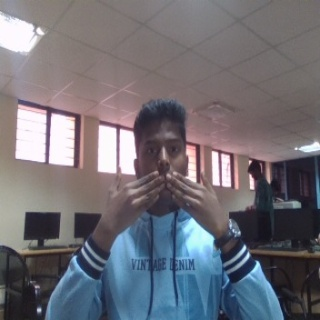Thank You: (99, 170, 236, 246)
